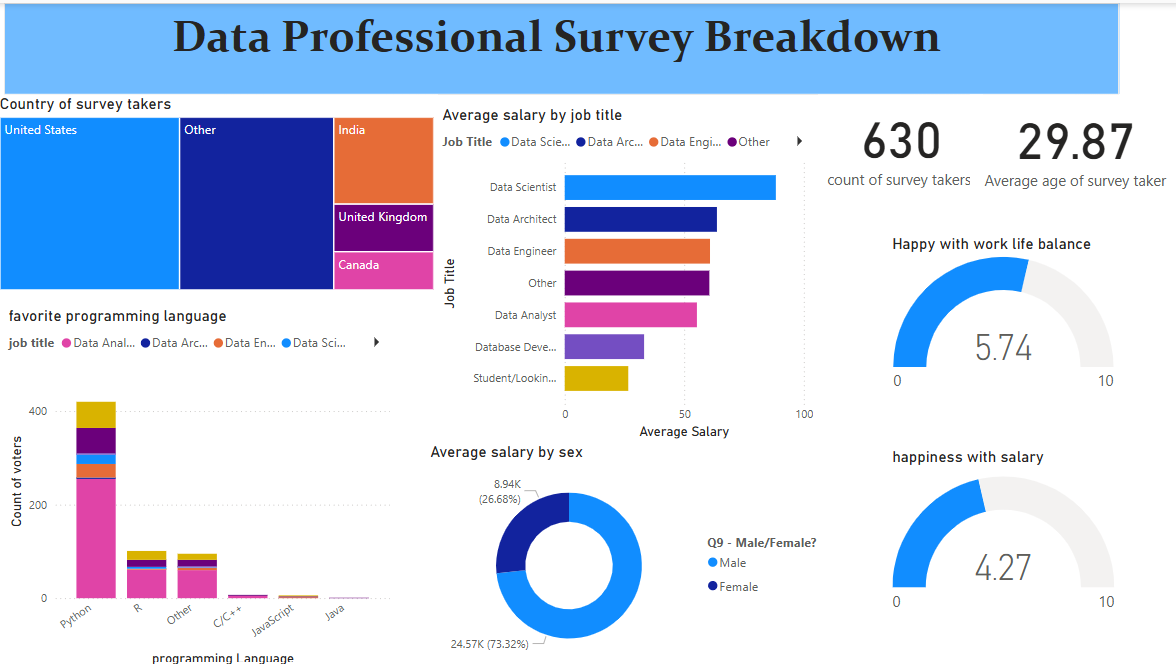

Layout of this report page (visuals, bound fields, positions):
{"tool":"powerbi","page":{"name":"Page 1","canvas":[1280,720],"ordinal":0},"visuals":[{"type":"textbox","box":[9.4,0,1203.8,98.3],"z":0},{"type":"card","fields":{"Values":["Count(Data Professional Survey.Unique ID)"]},"box":[888.2,98.3,177.6,105.8],"z":1000},{"type":"card","fields":{"Values":["Avg(Data Professional Survey.Q10 - Current Age)"]},"box":[1052.6,98.3,226.8,107.7],"z":2000},{"type":"barChart","title":"Average salary by job title","fields":{"Category":["Data Professional Survey.Q1 - Which Title Best Fits your Current Role?.1"],"Y":["Avg(Data Professional Survey.Average salary)"],"Series":["Data Professional Survey.Q1 - Which Title Best Fits your Current Role?.1"]},"box":[478.1,109.6,410.1,364.7],"z":3000},{"type":"columnChart","title":"favorite programming language","fields":{"Category":["Data Professional Survey.Q5 - Favorite Programming Language.1"],"Y":["CountNonNull(Data Professional Survey.Unique ID)"],"Series":["Data Professional Survey.Q1 - Which Title Best Fits your Current Role?.1"]},"box":[9.4,326.9,421.4,393.1],"z":4000},{"type":"treemap","title":"Country of survey takers","fields":{"Group":["Data Professional Survey.Q11 - Which Country do you live in?.1"],"Values":["CountNonNull(Data Professional Survey.Q11 - Which Country do you live in?.1)"]},"box":[0,98.3,478.1,215.4],"z":5000},{"type":"gauge","title":"Happy with work life balance","fields":{"Y":["Avg(Data Professional Survey.Q6 - How Happy are you in your Current Position with the following? (Work/Life Balance))"],"MinValue":["Min(Data Professional Survey.Q6 - How Happy are you in your Current Position with the following? (Work/Life Balance))"],"MaxValue":["Max(Data Professional Survey.Q6 - How Happy are you in your Current Position with the following? (Work/Life Balance))"]},"box":[963.8,249.5,249.5,179.5],"z":6000},{"type":"gauge","title":"happiness with salary","fields":{"Y":["Avg(Data Professional Survey.Q6 - How Happy are you in your Current Position with the following? (Salary))"],"MinValue":["Min(Data Professional Survey.Q6 - How Happy are you in your Current Position with the following? (Salary))"],"MaxValue":["Max(Data Professional Survey.Q6 - How Happy are you in your Current Position with the following? (Salary))"]},"box":[963.8,480,249.5,194.6],"z":7000},{"type":"donutChart","title":" Average salary by sex","fields":{"Category":["Data Professional Survey.Q9 - Male/Female?"],"Y":["Sum(Data Professional Survey.Average salary)"]},"box":[464.9,474.3,444.1,245.7],"z":8000}]}

Visuals, with their boxes in screenshot pixels (x1, y1, x2, y2), scaled from the page's 1280x720 canvas onto the 1176x664 screenshot:
textbox: bbox=[9, 0, 1115, 91]
card - Count(Data Professional Survey.Unique ID): bbox=[816, 91, 979, 188]
card - Avg(Data Professional Survey.Q10 - Current Age): bbox=[967, 91, 1175, 190]
"Average salary by job title" barChart: bbox=[439, 101, 816, 437]
"favorite programming language" columnChart: bbox=[9, 301, 396, 663]
"Country of survey takers" treemap: bbox=[0, 91, 439, 289]
"Happy with work life balance" gauge: bbox=[885, 230, 1115, 396]
"happiness with salary" gauge: bbox=[885, 443, 1115, 622]
" Average salary by sex" donutChart: bbox=[427, 437, 835, 663]
